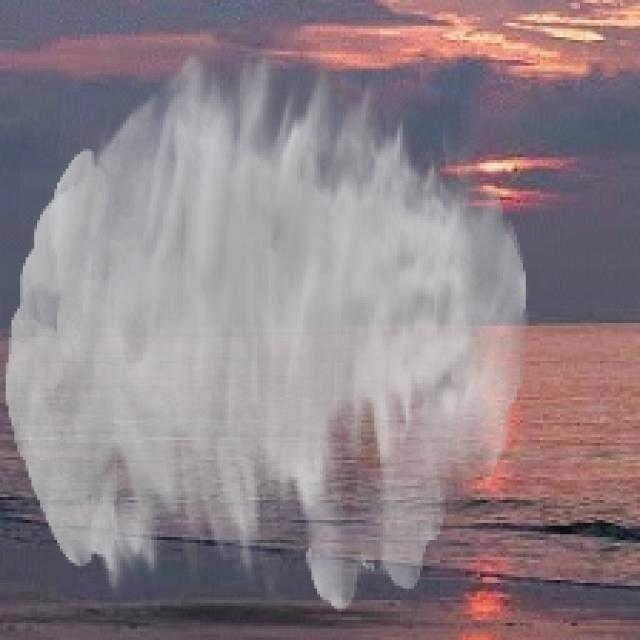Smoke: (6, 46, 528, 612)
